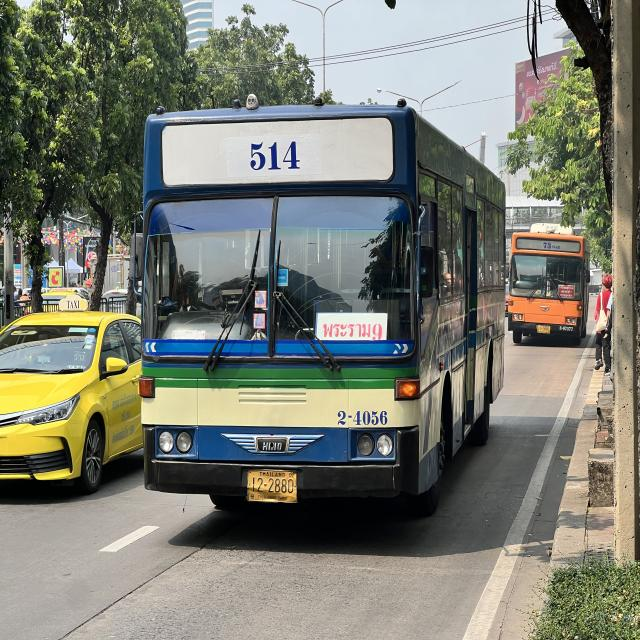BMTA-bus: (135, 88, 510, 522), (511, 225, 592, 350)
Bus-Line-Number: (241, 136, 306, 172), (541, 240, 562, 252)
Destination-Sign-Extra-Bus: (318, 313, 387, 339), (559, 284, 575, 298)
